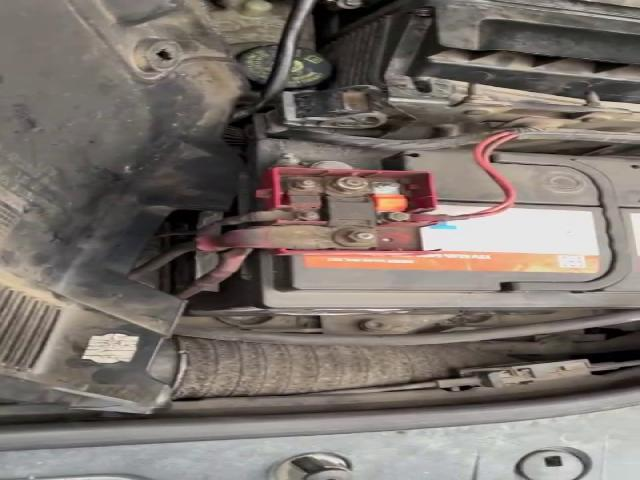accumulator: (170, 139, 640, 315)
